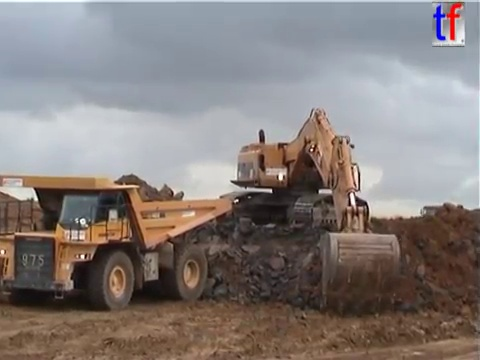excavator: (217, 105, 404, 318)
truck: (1, 172, 234, 312)
